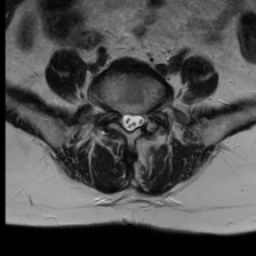CCS_normal: (126, 107, 134, 136)
LFS_normal: (143, 103, 151, 127)
LLS_normal: (134, 109, 142, 133)
RFS_severe_stenosis: (111, 103, 119, 126)
RLS_normal: (119, 107, 127, 131)
